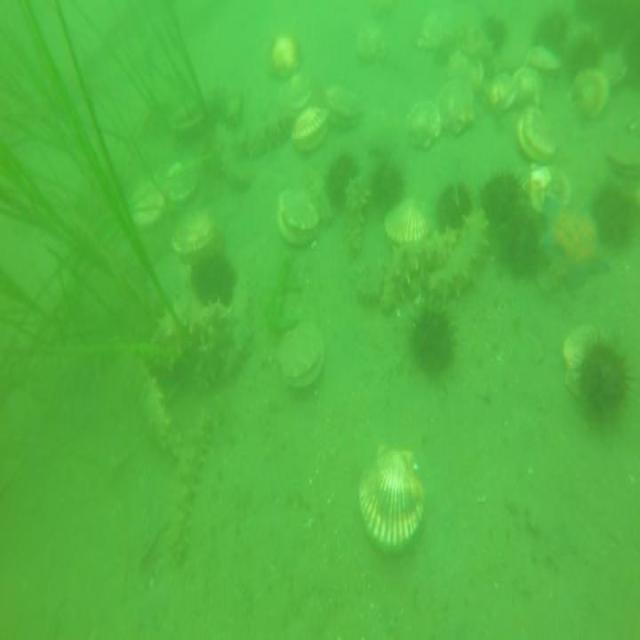echinus: (572, 329, 636, 430), (403, 296, 458, 386), (587, 173, 640, 257), (494, 197, 545, 283), (191, 238, 237, 310), (365, 155, 409, 218), (482, 164, 521, 234), (560, 28, 605, 87), (324, 146, 362, 208), (433, 178, 473, 236), (531, 8, 568, 55), (618, 13, 640, 90), (574, 0, 620, 30)
holothurian: (164, 406, 217, 564), (378, 224, 458, 320), (418, 202, 490, 302), (132, 357, 186, 463), (221, 262, 258, 381), (147, 288, 200, 360), (239, 108, 301, 161), (213, 120, 256, 190), (186, 298, 236, 351), (345, 169, 371, 259), (302, 156, 332, 226)
scallop: (356, 442, 429, 558), (557, 311, 603, 406), (276, 319, 330, 395), (142, 254, 198, 320), (514, 101, 559, 174), (276, 186, 322, 253), (401, 90, 443, 158), (440, 71, 479, 144), (569, 64, 611, 130), (168, 200, 215, 258), (526, 163, 574, 218), (129, 172, 170, 231), (382, 194, 429, 245), (292, 101, 334, 158), (444, 44, 486, 100), (352, 14, 393, 71), (320, 84, 368, 132), (170, 84, 210, 137), (268, 28, 303, 84), (510, 60, 550, 106), (483, 68, 518, 118), (522, 43, 562, 74)
starfish: (543, 196, 608, 294)
waterweeds: (1, 0, 197, 386), (74, 0, 205, 156)
